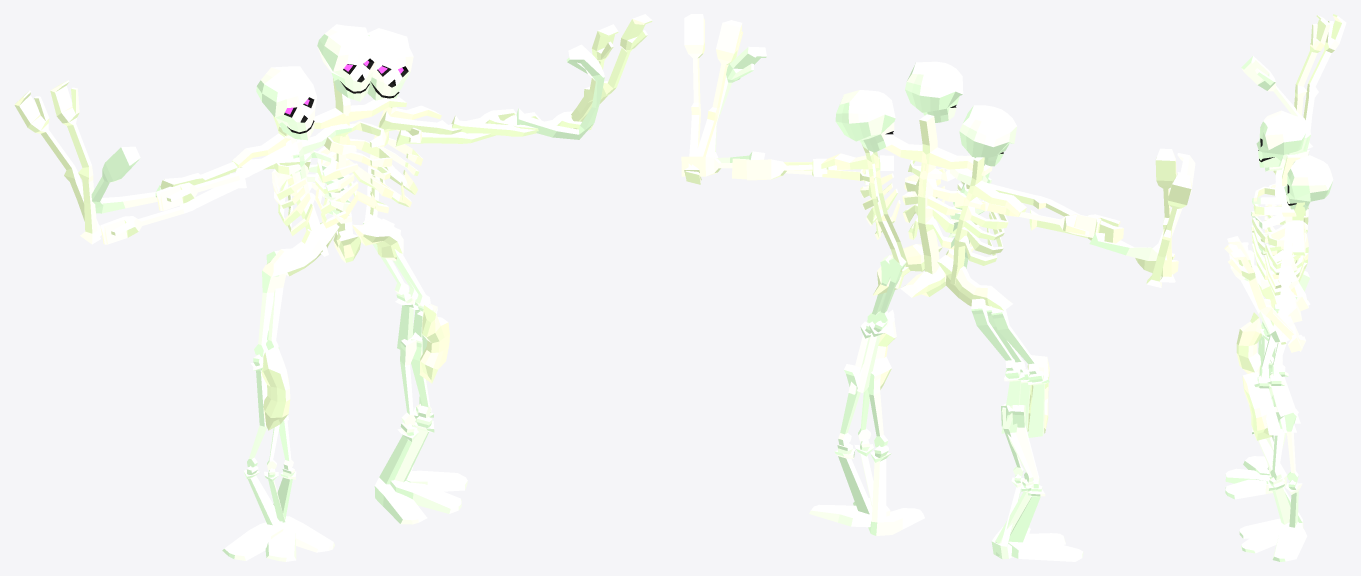
The model's file is bone golem merged.fbx.
The picture shows the model from 3 angles, left to right: view 1: azimuth 30°, elevation 25°; view 2: azimuth 150°, elevation 25°; view 3: azimuth 270°, elevation 25°; orthographic projection. The views are drawn at different scales.
Visible parts, largest first — view 1: Cube.006; view 2: Cube.006; view 3: Cube.006.
Part boxes in pixels (x1,y1,x2,y2): Cube.006: (14, 14, 652, 561); Cube.006: (681, 14, 1195, 561); Cube.006: (1224, 14, 1346, 561).
Bounding box in the file's own units: 545 × 443 × 122.
